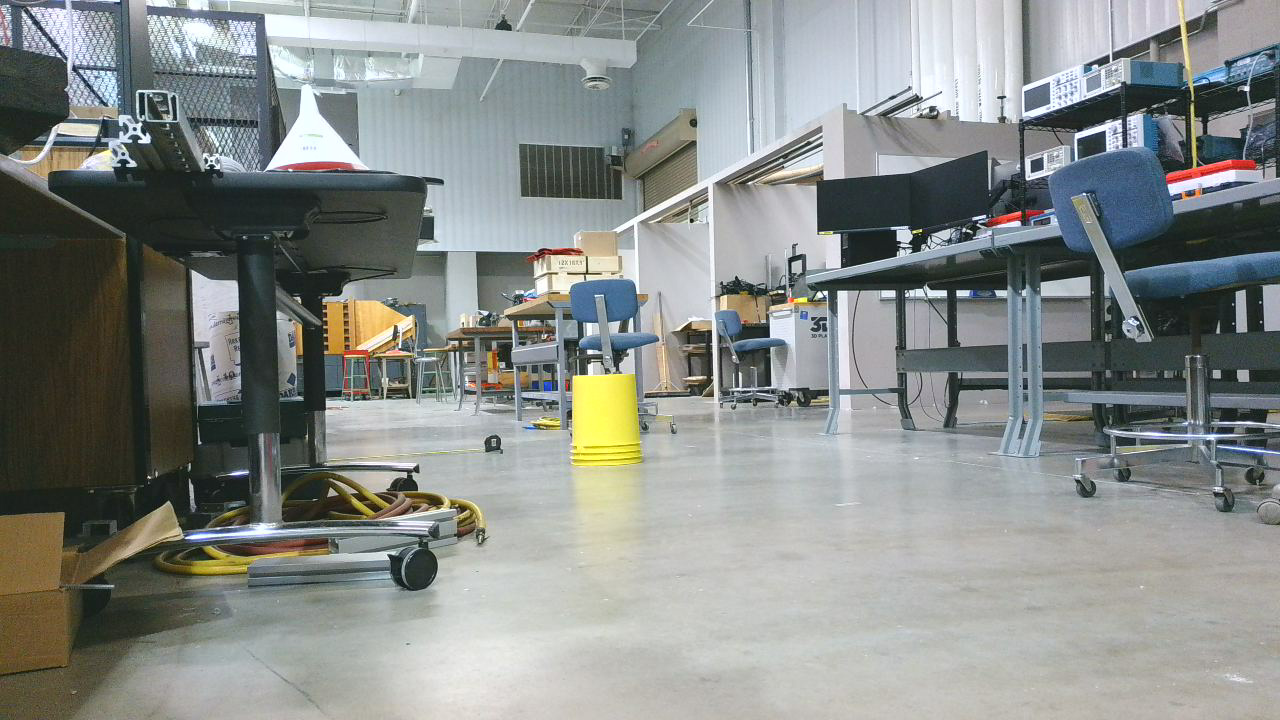yellow_bucket: (572, 378, 649, 473)
